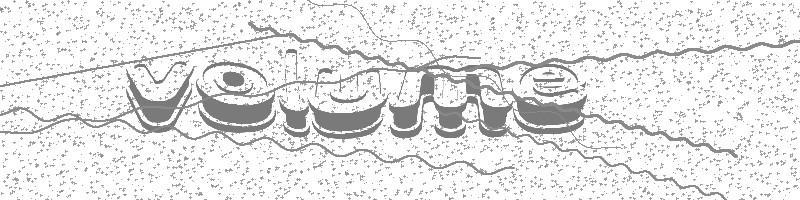e: (512, 57, 589, 135)
l: (280, 45, 312, 141)
m: (390, 59, 515, 138)
o: (191, 56, 279, 136)
u: (309, 60, 389, 141)
v: (120, 59, 196, 135)
